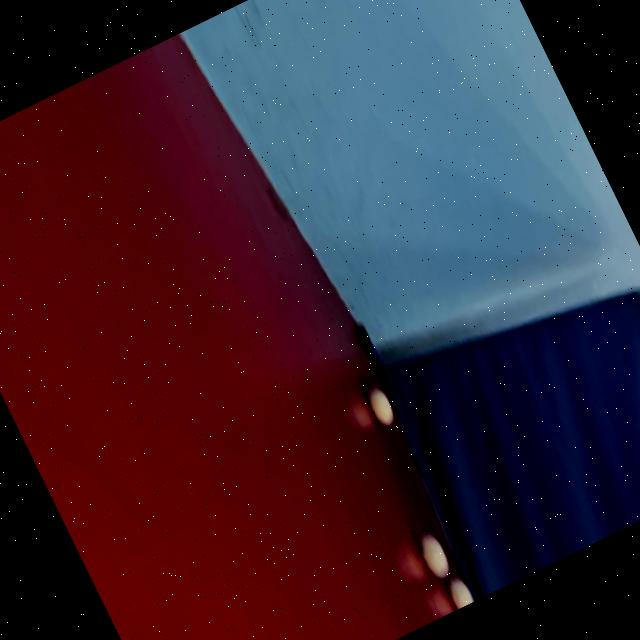ping-pong-ball: (402, 512, 462, 593), (359, 378, 412, 442), (433, 562, 482, 612)
